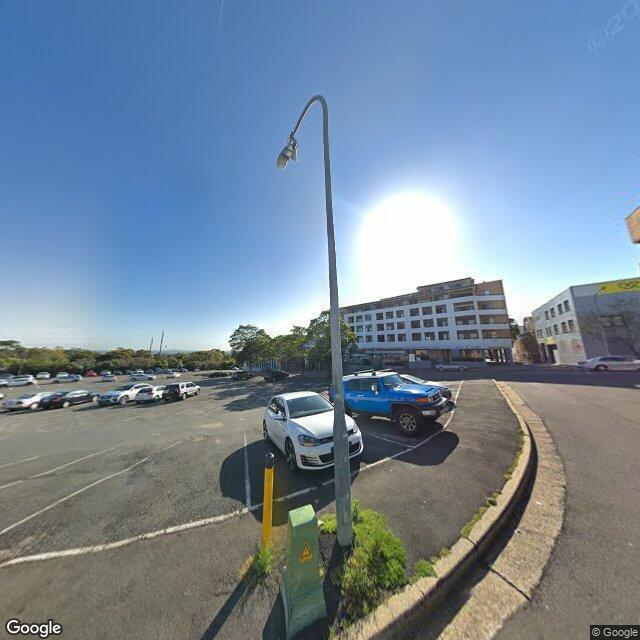steel-pole: (323, 101, 352, 546)
streetlight: (276, 91, 322, 171)
